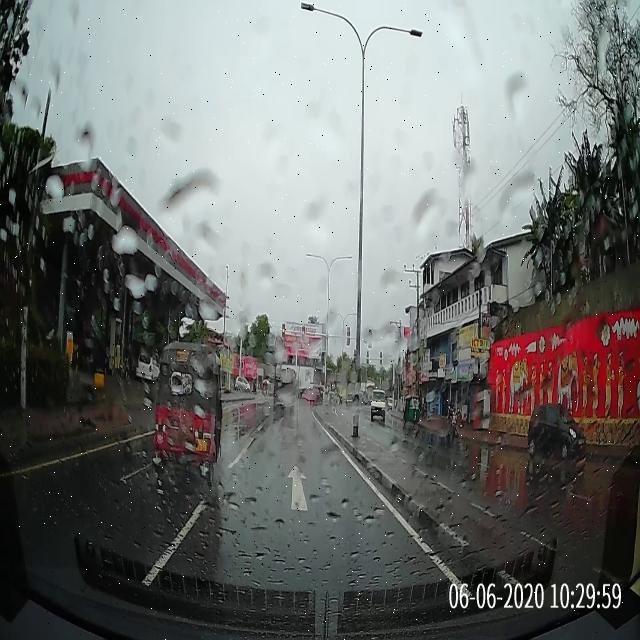forward: (190, 463, 400, 514)
